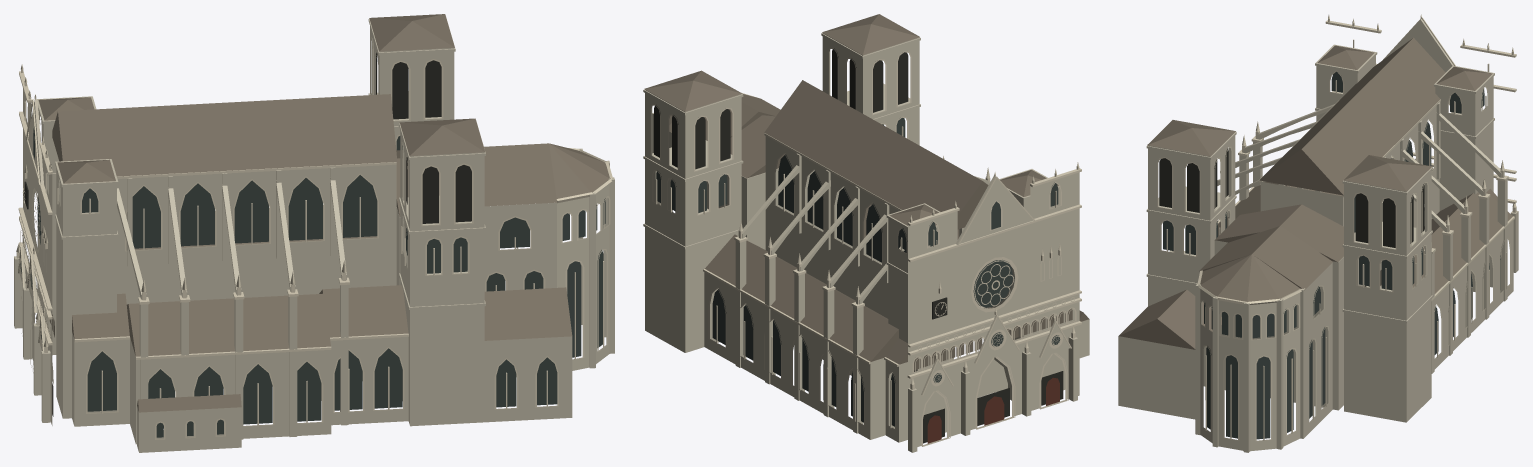
File: cathedrale-saint-jean-lyon-far.glb
The picture shows the model from 3 angles, left to right: view 1: azimuth 30°, elevation 25°; view 2: azimuth 150°, elevation 25°; view 3: azimuth 270°, elevation 25°; orthographic projection. The views are drawn at different scales.
Parts seen in each view (by area): view 1: cathedrale-saint-jean-lyon-0-stone, cathedrale-saint-jean-lyon-0-roof, cathedrale-saint-jean-lyon-0-glass, cathedrale-saint-jean-lyon-0-trim, cathedrale-saint-jean-lyon-0-recess; view 2: cathedrale-saint-jean-lyon-0-stone, cathedrale-saint-jean-lyon-0-roof, cathedrale-saint-jean-lyon-0-trim, cathedrale-saint-jean-lyon-0-glass, cathedrale-saint-jean-lyon-0-recess, cathedrale-saint-jean-lyon-0-door; view 3: cathedrale-saint-jean-lyon-0-stone, cathedrale-saint-jean-lyon-0-roof, cathedrale-saint-jean-lyon-0-trim, cathedrale-saint-jean-lyon-0-glass, cathedrale-saint-jean-lyon-0-recess.
Boxes of the visible parts, left/top/right/bottom form: cathedrale-saint-jean-lyon-0-stone: left=14, top=18, right=614, bottom=452; cathedrale-saint-jean-lyon-0-roof: left=38, top=14, right=609, bottom=412; cathedrale-saint-jean-lyon-0-glass: left=20, top=95, right=605, bottom=437; cathedrale-saint-jean-lyon-0-trim: left=16, top=37, right=612, bottom=439; cathedrale-saint-jean-lyon-0-recess: left=24, top=52, right=471, bottom=416; cathedrale-saint-jean-lyon-0-stone: left=643, top=33, right=1089, bottom=452; cathedrale-saint-jean-lyon-0-roof: left=644, top=14, right=1089, bottom=370; cathedrale-saint-jean-lyon-0-trim: left=650, top=47, right=1081, bottom=446; cathedrale-saint-jean-lyon-0-glass: left=656, top=118, right=1060, bottom=426; cathedrale-saint-jean-lyon-0-recess: left=654, top=48, right=1063, bottom=443; cathedrale-saint-jean-lyon-0-door: left=927, top=377, right=1059, bottom=443; cathedrale-saint-jean-lyon-0-stone: left=1118, top=19, right=1518, bottom=452; cathedrale-saint-jean-lyon-0-roof: left=1119, top=37, right=1512, bottom=349; cathedrale-saint-jean-lyon-0-trim: left=1157, top=14, right=1516, bottom=441; cathedrale-saint-jean-lyon-0-glass: left=1163, top=71, right=1500, bottom=439; cathedrale-saint-jean-lyon-0-recess: left=1159, top=148, right=1424, bottom=247.
Size of the model in its own units: 84.2 by 44 by 66.11.
